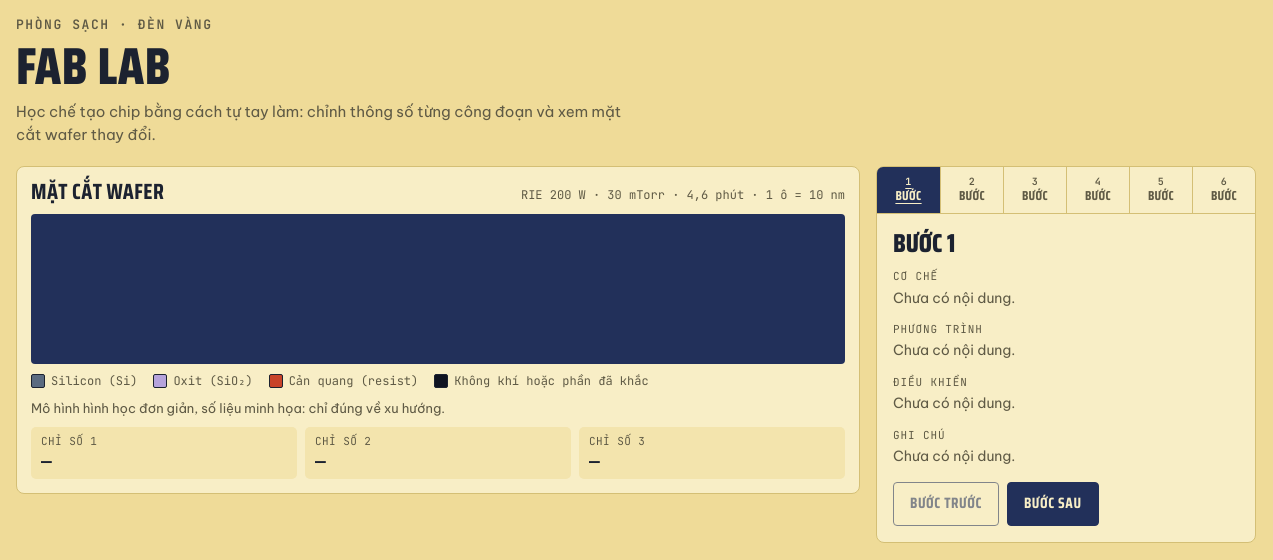
Test case: App frame (Viewer + Traveler) › changes the current step and the step title when a step is clicked
Expected: the picture named "mặt cắt wafer" is shown, [308, 214, 568, 364]
Click the button "3 Bước" at (1035, 190), box [1004, 167, 1066, 213]
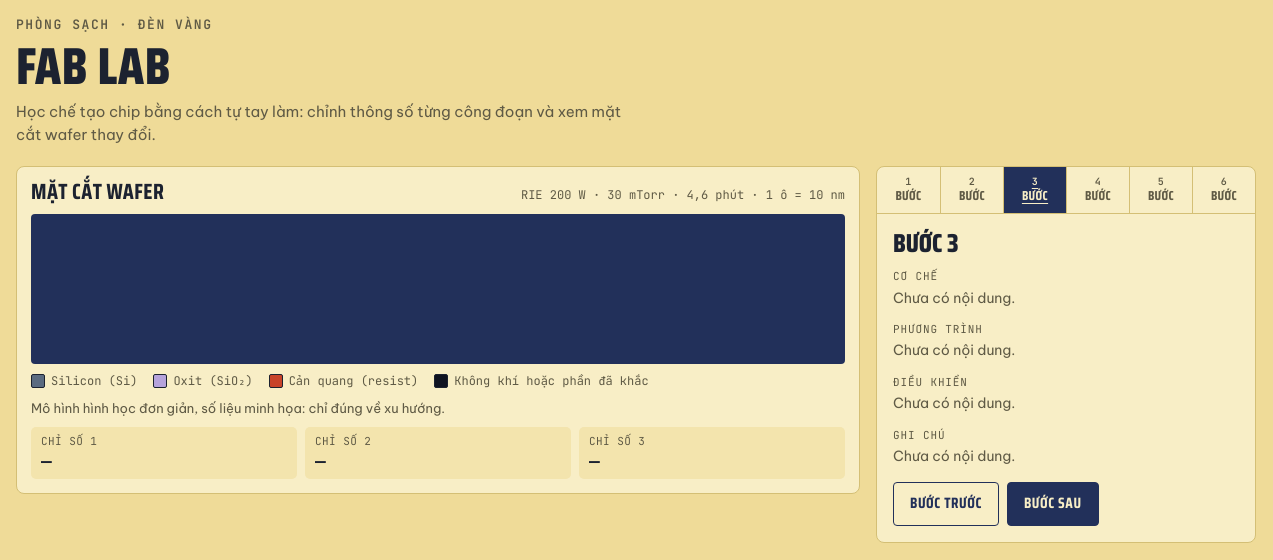
Expected: the heading "Bước 3" is shown, [893, 222, 959, 263]
